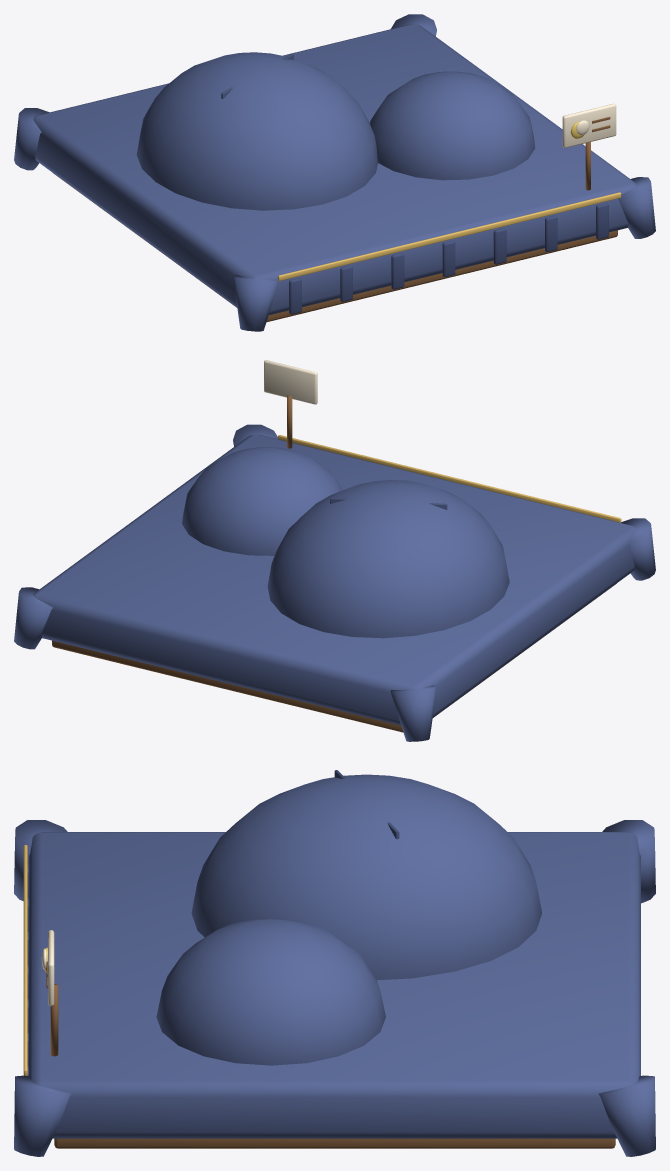
Rendered from display-cover.glb.
The picture shows the model from 3 angles, top to bottom: view 1: azimuth 30°, elevation 25°; view 2: azimuth 150°, elevation 25°; view 3: azimuth 270°, elevation 25°; orthographic projection. The views are drawn at different scales.
Visible parts, largest first — view 1: cloth, stand, tag; view 2: cloth, stand, tag; view 3: cloth, stand, tag.
Boxes of the visible parts, x1=… form: cloth: x1=14, y1=14, x2=655, y2=331; stand: x1=53, y1=173, x2=617, y2=322; tag: x1=562, y1=103, x2=616, y2=190; cloth: x1=14, y1=424, x2=655, y2=741; stand: x1=52, y1=583, x2=616, y2=732; tag: x1=264, y1=360, x2=317, y2=448; cloth: x1=14, y1=770, x2=655, y2=1156; stand: x1=54, y1=1138, x2=615, y2=1148; tag: x1=41, y1=930, x2=58, y2=1056.
Bounding box in the file's own units: 2.02 × 0.84 × 2.01.
